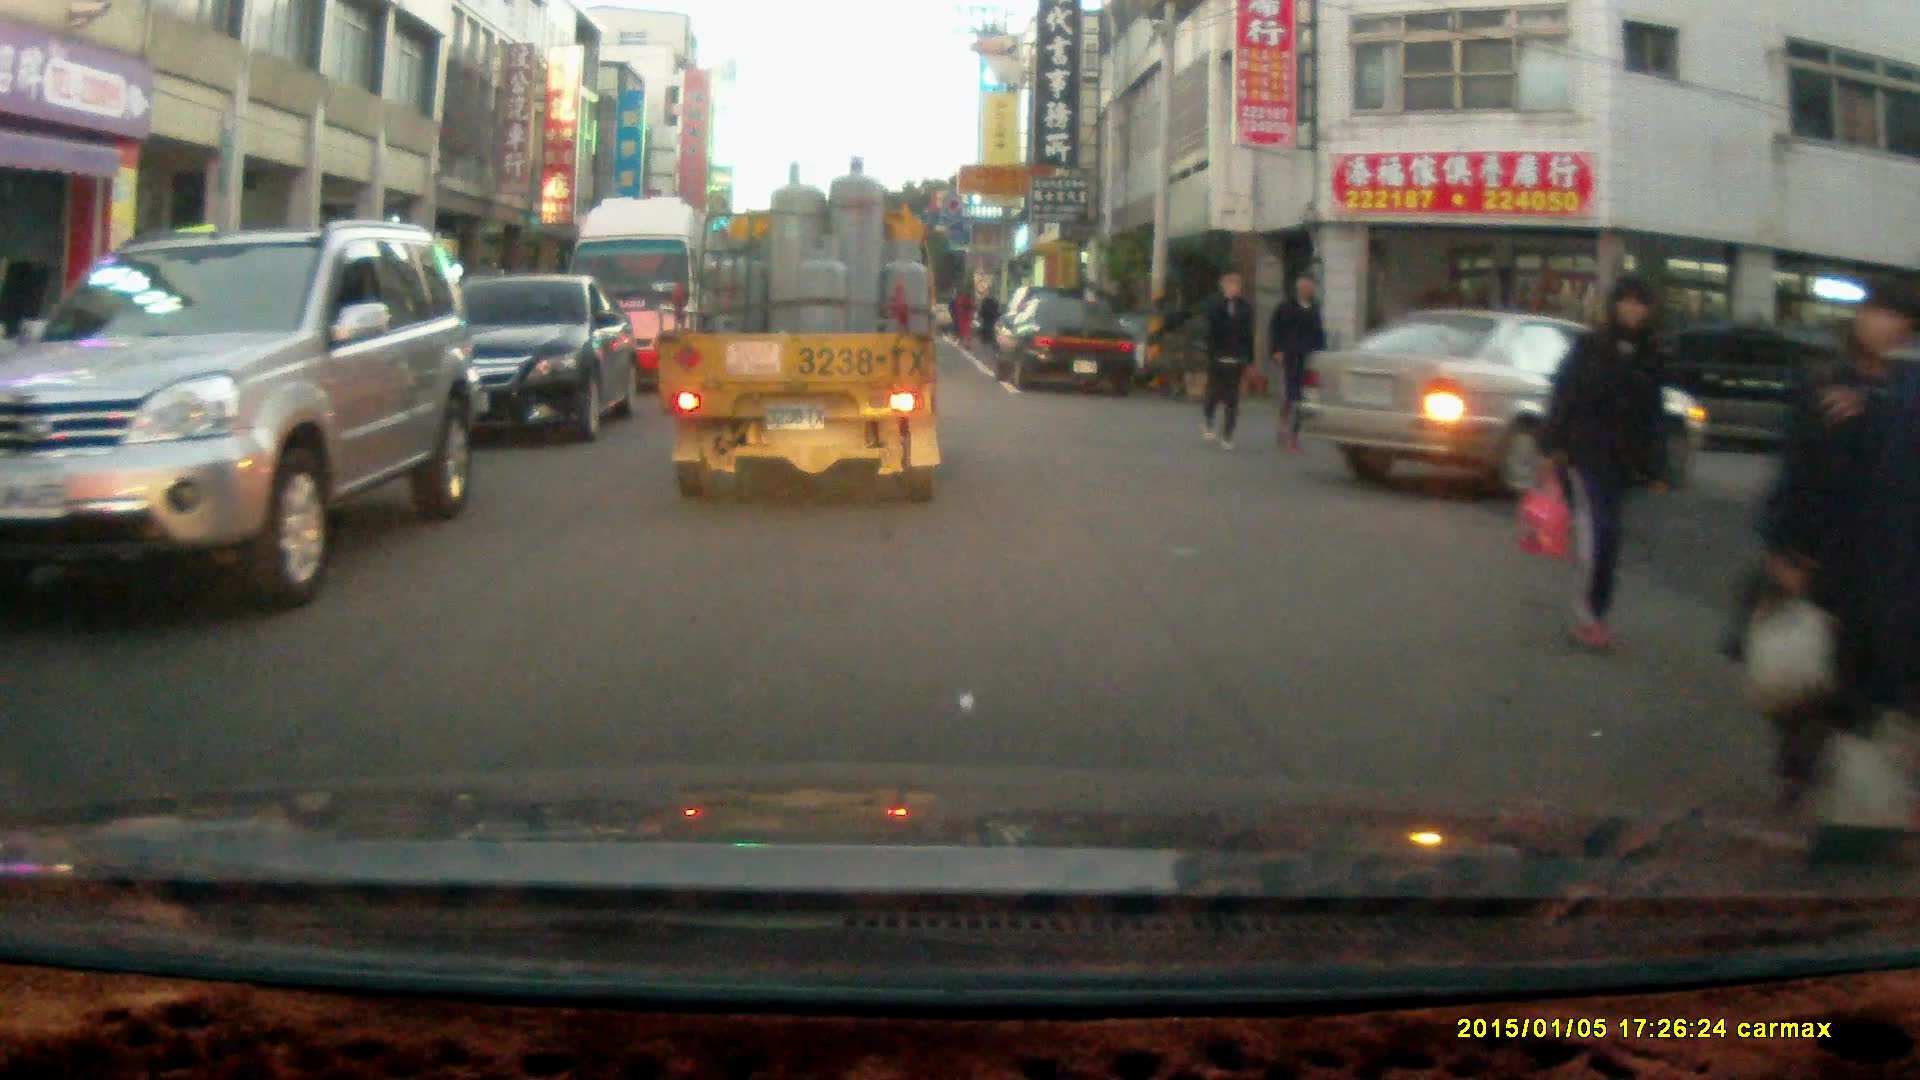pedestrian: (1761, 278, 1910, 817), (1545, 280, 1673, 652), (1264, 272, 1328, 455), (1196, 263, 1252, 451), (974, 281, 1001, 350)
vehicle: (2, 220, 481, 618), (658, 158, 943, 513), (1304, 310, 1712, 512), (385, 279, 639, 452), (564, 198, 737, 401), (988, 300, 1140, 400)
